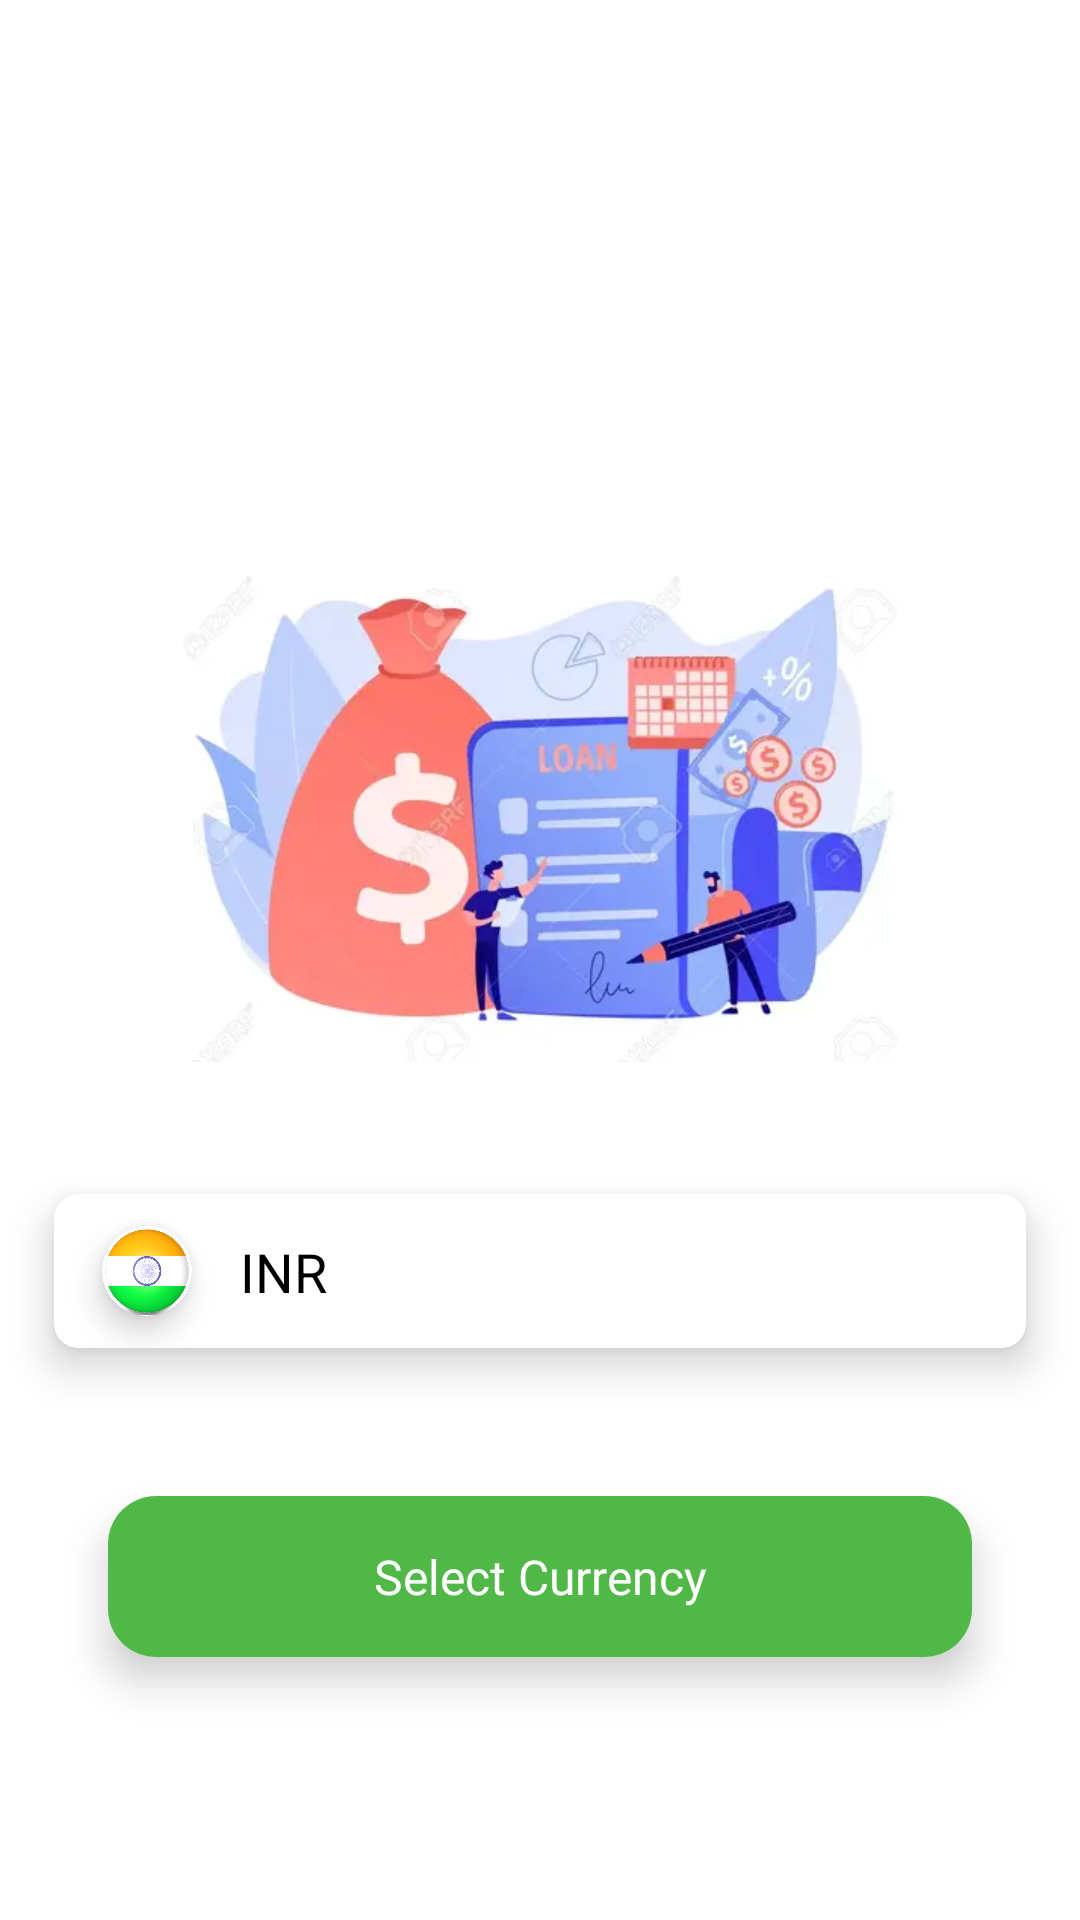

Locate icon controls on the screen. Image size 1080 × 1920, boxes as (x1, y1, x2, y2).
indianflag: (102, 1229, 189, 1316)
